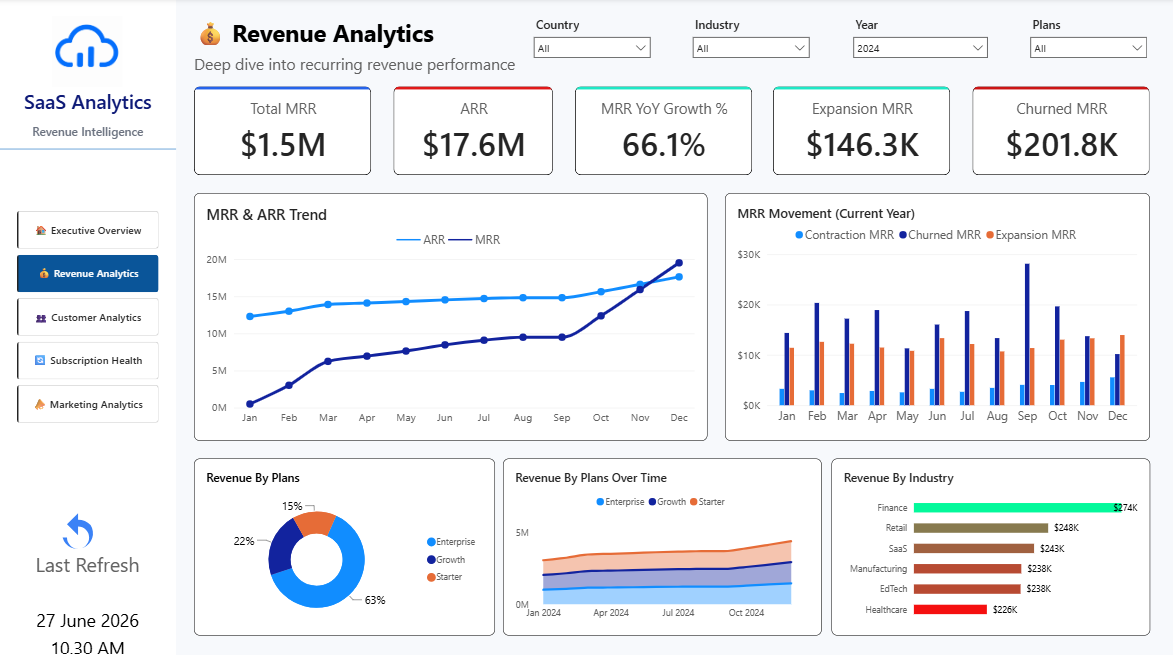

What the dashboard file says about the page in this screenshot:
{"tool":"powerbi","page":{"name":"💰 Revenue Analytics","canvas":[1600,900],"ordinal":1},"visuals":[{"type":"cardVisual","fields":{"Data":["_Measures.Total MRR"]},"box":[264,120,240,120],"z":0},{"type":"cardVisual","fields":{"Data":["_Measures_Revenue.ARR"]},"box":[534,120,216,120],"z":1000},{"type":"cardVisual","fields":{"Data":["_Measures_Revenue.Historical MRR YoY %"]},"box":[780,120,240,120],"z":2000},{"type":"cardVisual","fields":{"Data":["_Measures_Executive.Expansion MRR"]},"box":[1050,120,240,120],"z":3000},{"type":"lineChart","title":"MRR & ARR Trend","fields":{"Y":["_Measures_Revenue.Historical ARR"],"Category":["Dim_Date.Month Name"],"Y2":["_Measures_Revenue.Historical MRR"]},"box":[264,264,696,336],"z":4000},{"type":"donutChart","title":"Revenue By Plans","fields":{"Y":["_Measures.Total MRR"],"Category":["subscriptions.plan_type"]},"box":[264,624,408,240],"z":5000},{"type":"textbox","box":[264,24,456,120],"z":6000},{"type":"shape","box":[0,-12,240,912],"z":7000},{"type":"textbox","box":[24,120,192,96],"z":8000},{"type":"shape","box":[0,168,240,72],"z":9000},{"type":"image","box":[72,24,96,96],"z":10000},{"type":"pageNavigator","box":[24,288,192,290],"z":11000},{"type":"slicer","fields":{"Values":["customers.country"]},"box":[720,24,168,72],"z":12000},{"type":"slicer","fields":{"Values":["customers.industry"]},"box":[936,24,168,72],"z":13000},{"type":"slicer","fields":{"Values":["Dim_Date.Year"]},"box":[1152,24,192,72],"z":14000},{"type":"slicer","fields":{"Values":["subscriptions.plan_type"]},"box":[1392,24,168,72],"z":15000},{"type":"cardVisual","fields":{"Data":["_Measures_Executive.Churned MRR"]},"box":[1320,120,240,120],"z":16000},{"type":"clusteredColumnChart","title":"MRR Bridge (Current Year)","fields":{"Y":["_Measures_Executive.Contraction MRR","_Measures_Executive.Churned MRR","_Measures_Executive.Expansion MRR"],"Category":["Dim_Date.Month Name"]},"box":[984,264,576,336],"z":17000},{"type":"stackedAreaChart","title":"MRR By Pricing Plan Over Time","fields":{"Category":["Dim_Date.Date"],"Series":["subscriptions.plan_type"],"Y":["_Measures_Revenue.Historical MRR"]},"box":[684,624,432,240],"z":18000},{"type":"clusteredBarChart","title":"Revenue By Industry","fields":{"Category":["customers.industry"],"Y":["_Measures_Executive.Total MRR"]},"box":[1128,624,432,240],"z":19000},{"type":"textbox","box":[0,636,240,264],"z":20000},{"type":"image","box":[72,696,72,72],"z":21000}]}

Visuals, with their boxes on the page's 1600x900 design canvas (x1, y1, x2, y2). These are canvas units, not pixel positions in the 1173x655 screenshot, which may show the page scaled, cropped or inside an application window:
cardVisual - _Measures.Total MRR: bbox=[264, 120, 504, 240]
cardVisual - _Measures_Revenue.ARR: bbox=[534, 120, 750, 240]
cardVisual - _Measures_Revenue.Historical MRR YoY %: bbox=[780, 120, 1020, 240]
cardVisual - _Measures_Executive.Expansion MRR: bbox=[1050, 120, 1290, 240]
"MRR & ARR Trend" lineChart: bbox=[264, 264, 960, 600]
"Revenue By Plans" donutChart: bbox=[264, 624, 672, 864]
textbox: bbox=[264, 24, 720, 144]
shape: bbox=[0, -12, 240, 900]
textbox: bbox=[24, 120, 216, 216]
shape: bbox=[0, 168, 240, 240]
image: bbox=[72, 24, 168, 120]
pageNavigator: bbox=[24, 288, 216, 578]
slicer - customers.country: bbox=[720, 24, 888, 96]
slicer - customers.industry: bbox=[936, 24, 1104, 96]
slicer - Dim_Date.Year: bbox=[1152, 24, 1344, 96]
slicer - subscriptions.plan_type: bbox=[1392, 24, 1560, 96]
cardVisual - _Measures_Executive.Churned MRR: bbox=[1320, 120, 1560, 240]
"MRR Bridge (Current Year)" clusteredColumnChart: bbox=[984, 264, 1560, 600]
"MRR By Pricing Plan Over Time" stackedAreaChart: bbox=[684, 624, 1116, 864]
"Revenue By Industry" clusteredBarChart: bbox=[1128, 624, 1560, 864]
textbox: bbox=[0, 636, 240, 900]
image: bbox=[72, 696, 144, 768]
